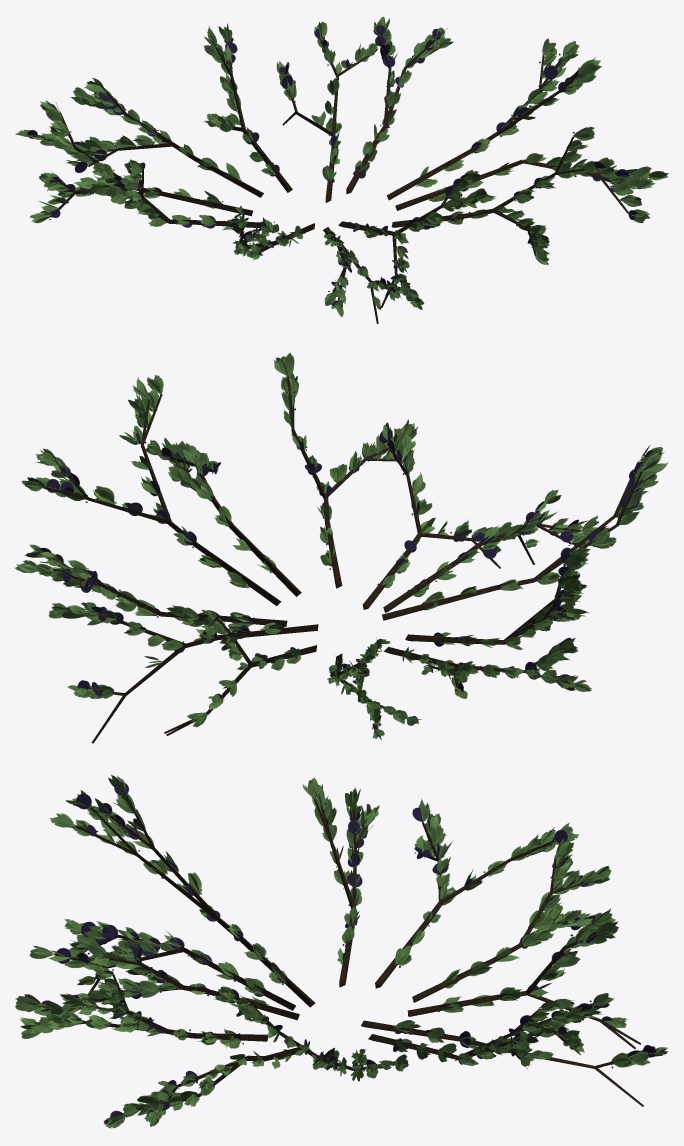
File: bilberry_low_v01_LOD1.glb
3 views of the same model, one above another, from view 1: azimuth 30°, elevation 25°; view 2: azimuth 150°, elevation 25°; view 3: azimuth 270°, elevation 25° (orthographic). The views are drawn at different scales.
Parts seen in each view (by area): view 1: bilberry_low_v01_LOD1; view 2: bilberry_low_v01_LOD1; view 3: bilberry_low_v01_LOD1.
Part boxes in pixels (bbox=[...]): bilberry_low_v01_LOD1: bbox=[15, 16, 668, 323]; bilberry_low_v01_LOD1: bbox=[14, 352, 667, 743]; bilberry_low_v01_LOD1: bbox=[15, 774, 668, 1128].
Bounding box in the file's own units: 0.8753 × 0.2694 × 0.831.
Materials: 2 (2 with a texture image).
